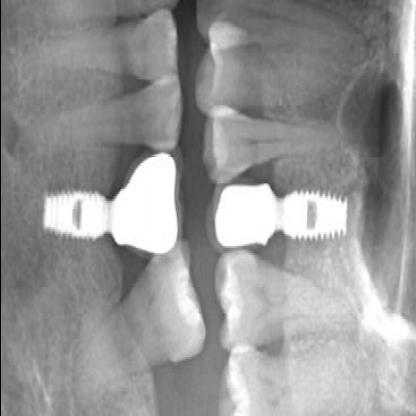Bicon: (30, 160, 111, 265), (268, 167, 353, 256)
